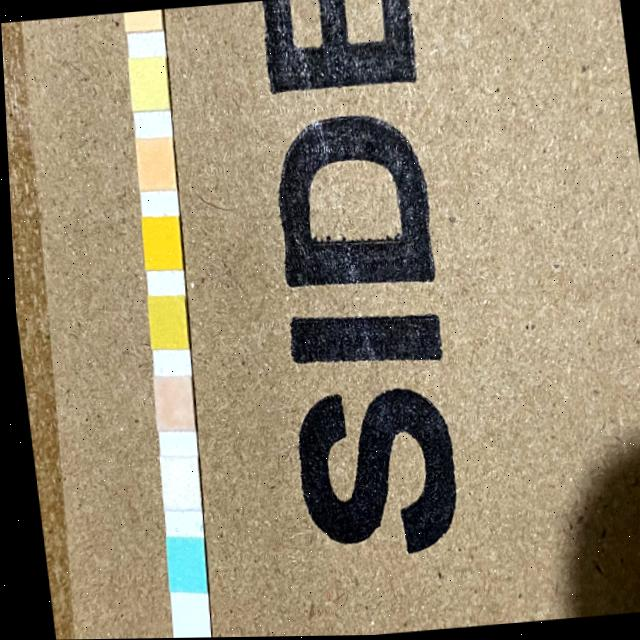Bilirubin: (155, 455, 194, 507)
Blood: (138, 216, 175, 267)
Glucose: (161, 539, 200, 589)
Ketone: (149, 378, 188, 429)
Protein: (127, 57, 165, 108)
SpGravity: (144, 296, 183, 346)
Urobilinogen: (124, 9, 160, 28)
pH: (133, 138, 171, 189)
